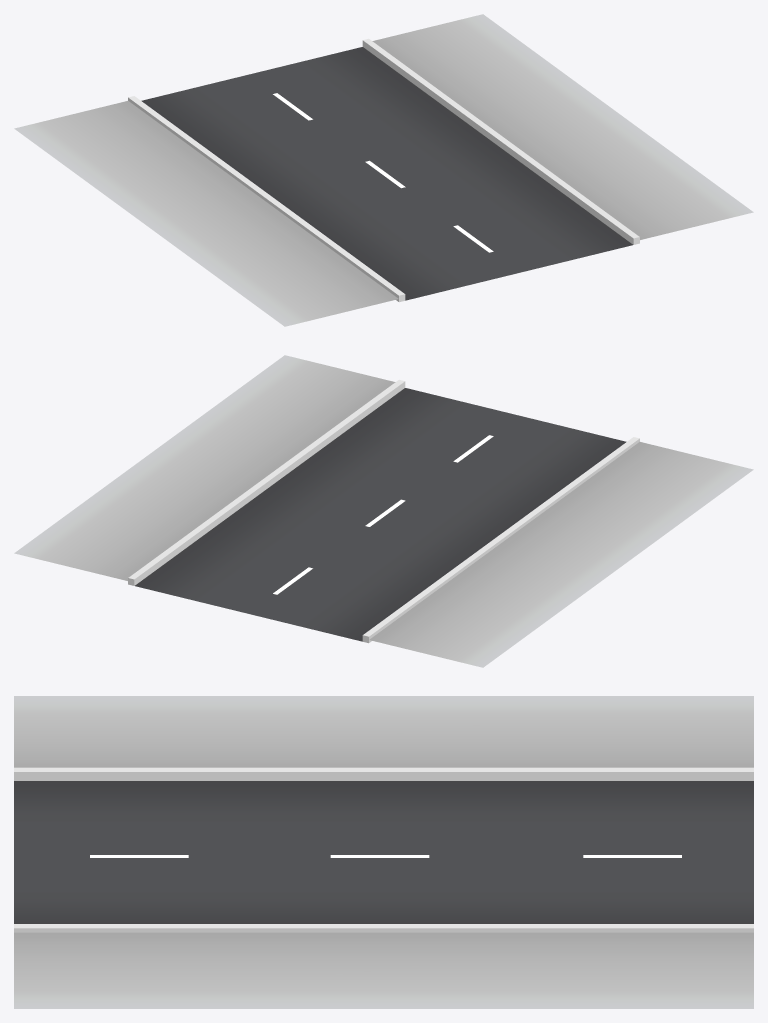
File: city2-road-009.glb
3 renders of one model, top to bottom at view 1: azimuth 30°, elevation 25°; view 2: azimuth 150°, elevation 25°; view 3: azimuth 270°, elevation 25°, orthographic. The views are drawn at different scales.
Parts seen in each view (by area): view 1: road_009; view 2: road_009; view 3: road_009.
Part boxes in pixels (x1=…): road_009: x1=14, y1=14, x2=753, y2=326; road_009: x1=14, y1=355, x2=753, y2=667; road_009: x1=14, y1=696, x2=753, y2=1008.
Bounding box in the file's own units: 15 × 0.2 × 15.
Materials: 1 (1 with a texture image).
